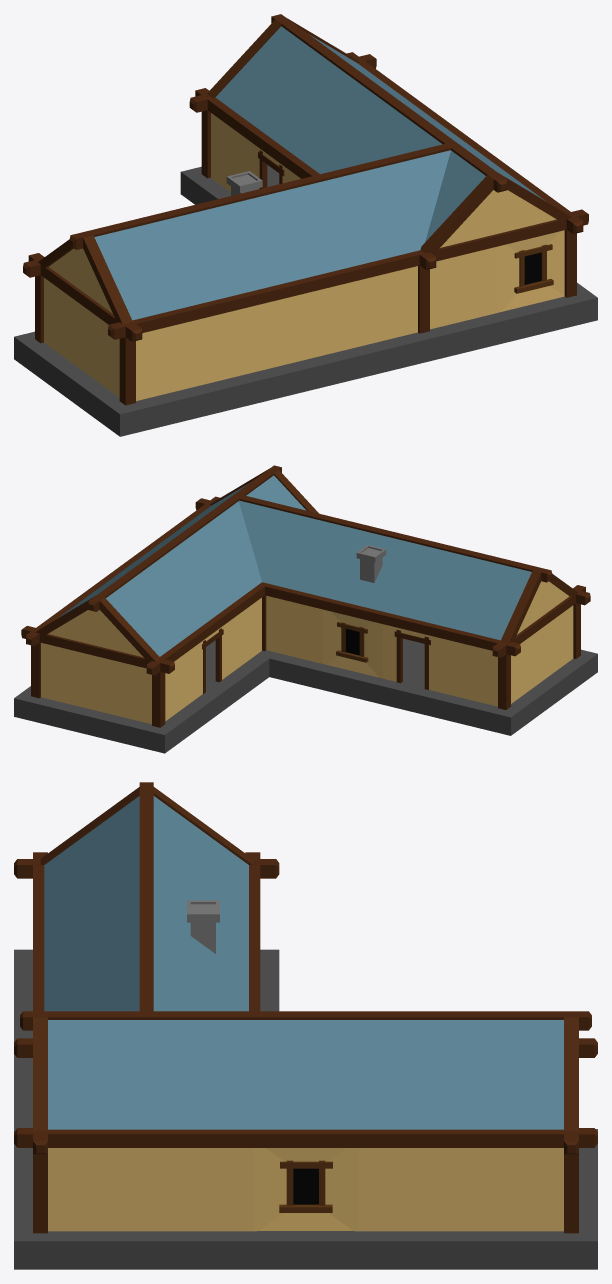
File: MBS_City_FishermenHut.fbx
3 renders of one model, top to bottom at view 1: azimuth 30°, elevation 25°; view 2: azimuth 150°, elevation 25°; view 3: azimuth 270°, elevation 25°, orthographic. The views are drawn at different scales.
Parts seen in each view (by area): view 1: Cube.845; view 2: Cube.845; view 3: Cube.845.
Boxes of the visible parts, x1,y1,x2,y2 form: Cube.845: [14, 14, 597, 436]; Cube.845: [14, 465, 597, 753]; Cube.845: [14, 782, 597, 1269].
Size of the model in its own units: 2600 by 828 by 2200.
